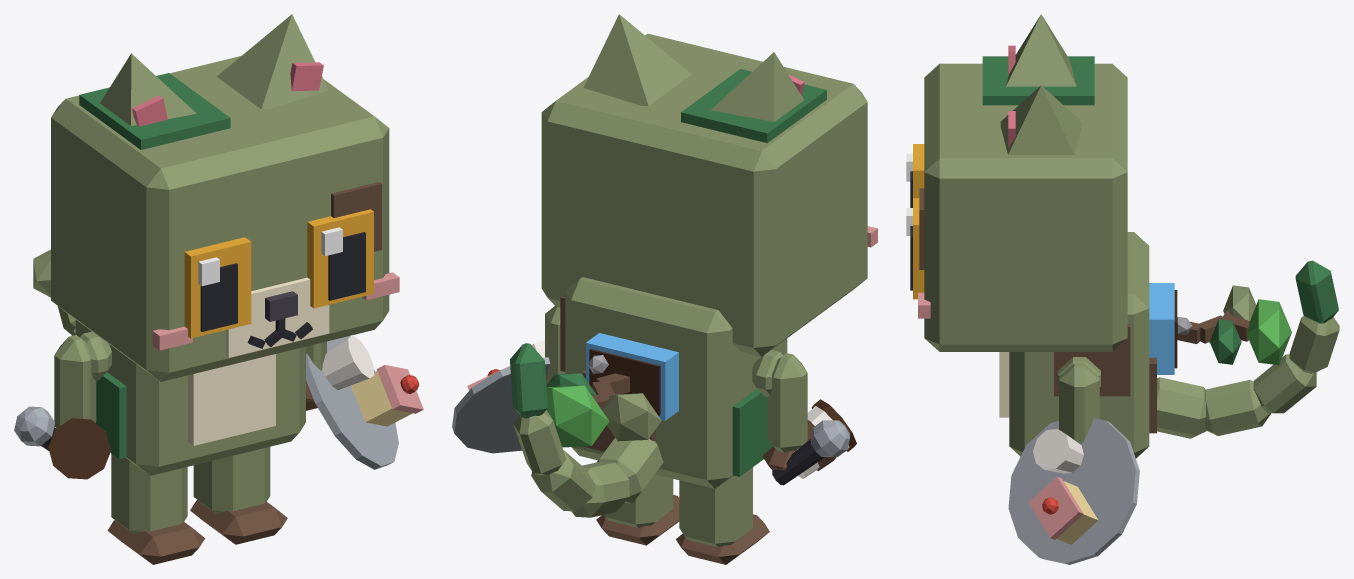
File: CatCafe_Cat_Bonsai_Work.fbx
The picture shows the model from 3 angles, left to right: view 1: azimuth 30°, elevation 25°; view 2: azimuth 150°, elevation 25°; view 3: azimuth 270°, elevation 25°; orthographic projection. The views are drawn at different scales.
Visible parts, largest first — view 1: CatCafe_Cat_Bonsai_Work_Head, CatCafe_Cat_Bonsai_Work_Body, CatCafe_Cat_Bonsai_Work_Held_Waiter, CatCafe_Cat_Bonsai_Work_LegB2, CatCafe_Cat_Bonsai_Work_LegB1, CatCafe_Cat_Bonsai_Work_Eye2, CatCafe_Cat_Bonsai_Work_EarL, CatCafe_Cat_Bonsai_Work_Eye1, CatCafe_Cat_Bonsai_Work_EarR, CatCafe_Cat_Bonsai_Work_LegF2, CatCafe_Cat_Bonsai_Work_Held_Barista, CatCafe_Cat_Bonsai_Work_Held_Entertainer (+2 smaller); view 2: CatCafe_Cat_Bonsai_Work_Head, CatCafe_Cat_Bonsai_Work_Body, CatCafe_Cat_Bonsai_Work_Prop, CatCafe_Cat_Bonsai_Work_Tail, CatCafe_Cat_Bonsai_Work_LegB2, CatCafe_Cat_Bonsai_Work_EarL, CatCafe_Cat_Bonsai_Work_Held_Waiter, CatCafe_Cat_Bonsai_Work_LegF2, CatCafe_Cat_Bonsai_Work_EarR, CatCafe_Cat_Bonsai_Work_LegB1, CatCafe_Cat_Bonsai_Work_Held_Entertainer, CatCafe_Cat_Bonsai_Work_Held_Barista (+1 smaller); view 3: CatCafe_Cat_Bonsai_Work_Head, CatCafe_Cat_Bonsai_Work_Held_Waiter, CatCafe_Cat_Bonsai_Work_Body, CatCafe_Cat_Bonsai_Work_Tail, CatCafe_Cat_Bonsai_Work_Prop, CatCafe_Cat_Bonsai_Work_EarL, CatCafe_Cat_Bonsai_Work_EarR, CatCafe_Cat_Bonsai_Work_LegF1, CatCafe_Cat_Bonsai_Work_Eye1, CatCafe_Cat_Bonsai_Work_Eye2.
Part boxes in pixels (x1,y1,x2,y2): CatCafe_Cat_Bonsai_Work_Head: (51, 56, 399, 381); CatCafe_Cat_Bonsai_Work_Body: (75, 320, 305, 475); CatCafe_Cat_Bonsai_Work_Held_Waiter: (306, 335, 423, 469); CatCafe_Cat_Bonsai_Work_LegB2: (107, 453, 205, 564); CatCafe_Cat_Bonsai_Work_LegB1: (190, 447, 287, 544); CatCafe_Cat_Bonsai_Work_Eye2: (184, 237, 251, 338); CatCafe_Cat_Bonsai_Work_EarL: (216, 14, 328, 109); CatCafe_Cat_Bonsai_Work_Eye1: (307, 209, 373, 308); CatCafe_Cat_Bonsai_Work_EarR: (100, 53, 196, 126); CatCafe_Cat_Bonsai_Work_LegF2: (54, 335, 96, 427); CatCafe_Cat_Bonsai_Work_Held_Barista: (48, 418, 110, 479); CatCafe_Cat_Bonsai_Work_Held_Entertainer: (14, 406, 55, 450); CatCafe_Cat_Bonsai_Work_Head: (541, 33, 877, 356); CatCafe_Cat_Bonsai_Work_Body: (560, 277, 787, 488); CatCafe_Cat_Bonsai_Work_Prop: (546, 333, 678, 447); CatCafe_Cat_Bonsai_Work_Tail: (510, 343, 663, 517); CatCafe_Cat_Bonsai_Work_LegB2: (676, 467, 769, 564); CatCafe_Cat_Bonsai_Work_EarL: (583, 14, 691, 105); CatCafe_Cat_Bonsai_Work_Held_Waiter: (452, 340, 550, 453); CatCafe_Cat_Bonsai_Work_LegF2: (763, 353, 807, 470); CatCafe_Cat_Bonsai_Work_EarR: (711, 52, 804, 121); CatCafe_Cat_Bonsai_Work_LegB1: (596, 474, 679, 545); CatCafe_Cat_Bonsai_Work_Held_Entertainer: (772, 420, 849, 485); CatCafe_Cat_Bonsai_Work_Held_Barista: (797, 399, 856, 478); CatCafe_Cat_Bonsai_Work_Head: (918, 56, 1127, 351); CatCafe_Cat_Bonsai_Work_Held_Waiter: (1008, 418, 1139, 564); CatCafe_Cat_Bonsai_Work_Body: (999, 232, 1156, 458); CatCafe_Cat_Bonsai_Work_Tail: (1157, 260, 1339, 438); CatCafe_Cat_Bonsai_Work_Prop: (1149, 283, 1291, 374); CatCafe_Cat_Bonsai_Work_EarL: (1000, 85, 1081, 154); CatCafe_Cat_Bonsai_Work_EarR: (1006, 14, 1076, 86); CatCafe_Cat_Bonsai_Work_LegF1: (1059, 363, 1099, 444); CatCafe_Cat_Bonsai_Work_Eye1: (906, 198, 924, 299); CatCafe_Cat_Bonsai_Work_Eye2: (906, 144, 924, 207).
Bounding box in the file's own units: 1.53 × 1.93 × 1.62.
Materials: 1 (1 with a texture image).
